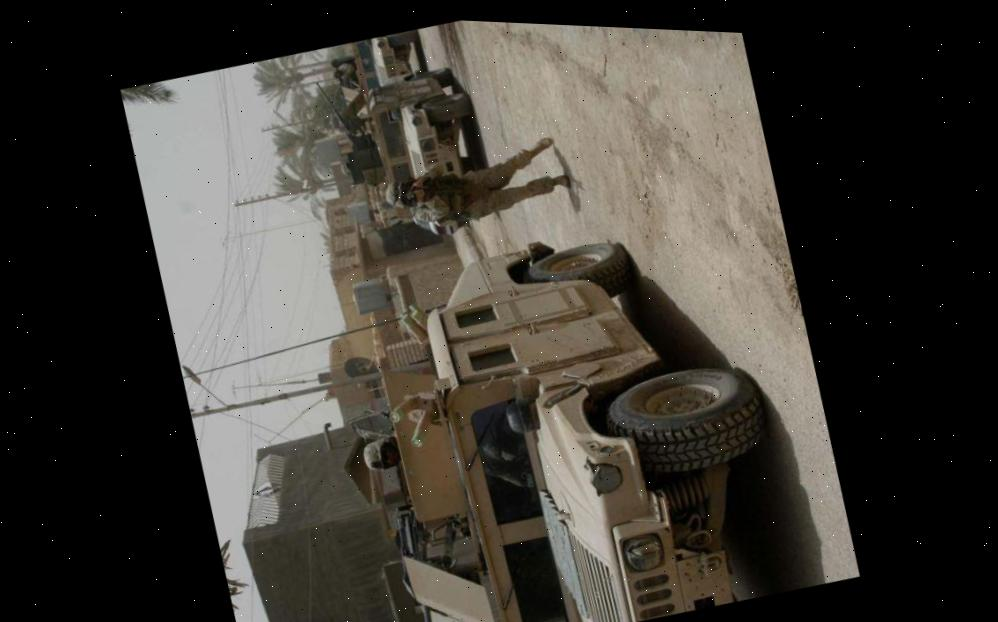armored_car: (325, 184, 816, 622), (309, 46, 501, 251), (325, 26, 436, 124)
person: (376, 126, 575, 244)
